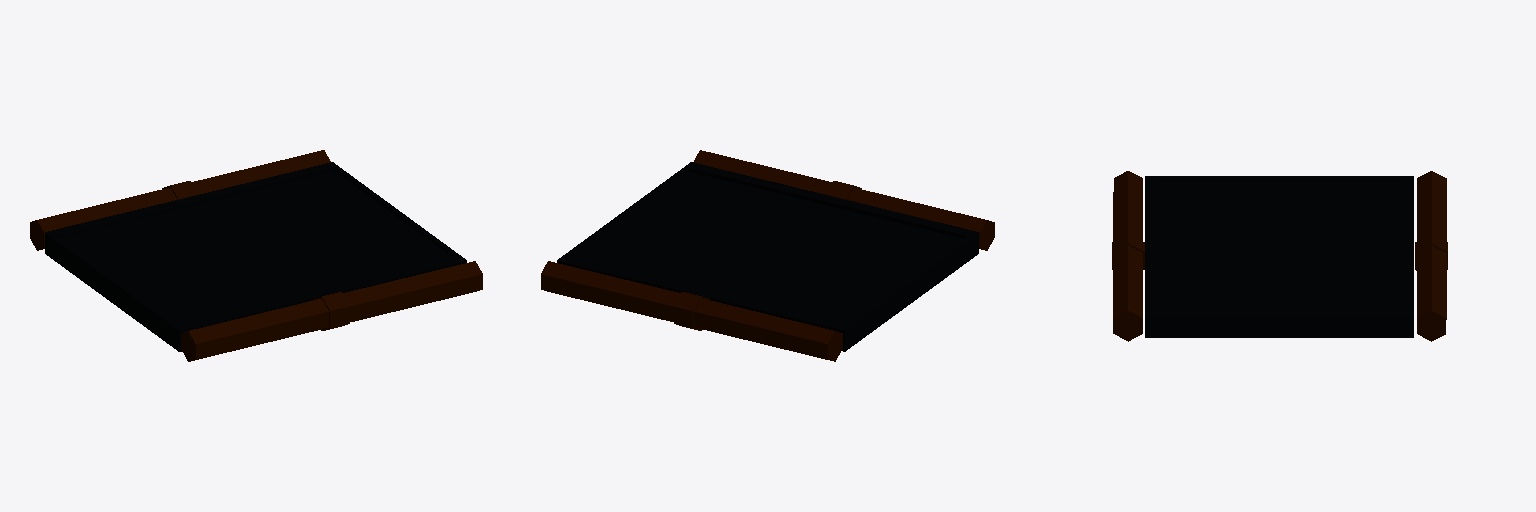
Rendered from platform_pipe.obj.
3 renders of one model, left to right at view 1: azimuth 30°, elevation 25°; view 2: azimuth 150°, elevation 25°; view 3: azimuth 270°, elevation 25°, orthographic.
Parts seen in each view (by area): view 1: platform_with_pipes; view 2: platform_with_pipes; view 3: platform_with_pipes.
Part boxes in pixels (left/top/right/bottom): platform_with_pipes: left=30, top=150, right=482, bottom=361; platform_with_pipes: left=541, top=150, right=994, bottom=361; platform_with_pipes: left=1112, top=171, right=1447, bottom=341.
Size of the model in its own units: 4.38 by 0.5076 by 4.43.